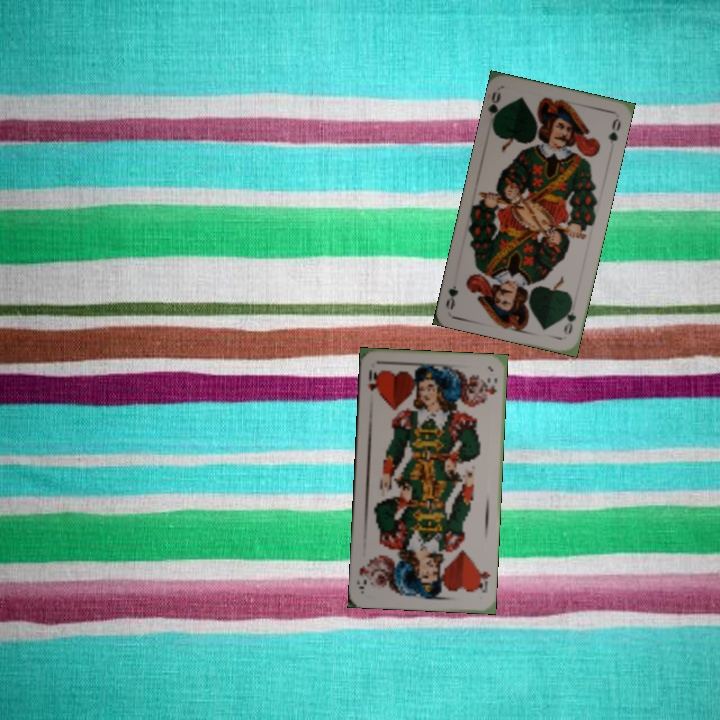GO: (484, 87, 506, 128), (559, 298, 579, 338)
HO: (472, 564, 492, 595), (364, 366, 381, 396)
